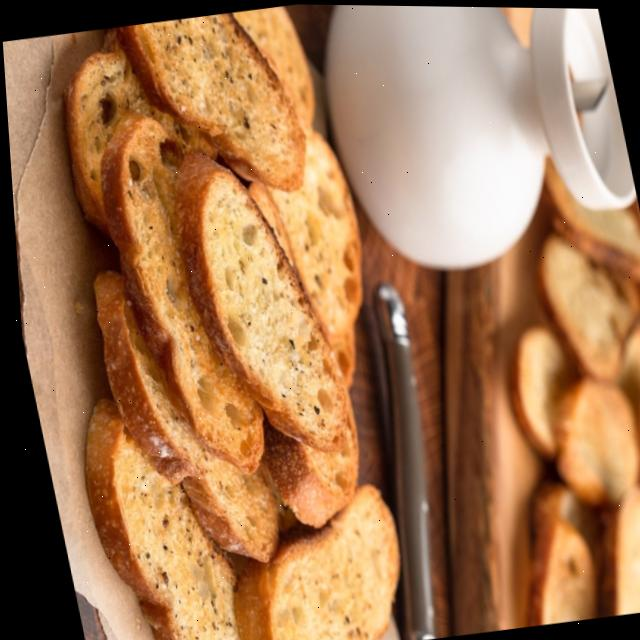Bread: (98, 113, 256, 472), (89, 272, 272, 561), (173, 152, 341, 451), (79, 399, 230, 640), (118, 12, 303, 190), (226, 484, 391, 640), (265, 131, 358, 343), (533, 232, 630, 378), (548, 376, 634, 503), (505, 325, 569, 455), (521, 516, 588, 624), (592, 486, 640, 614)
